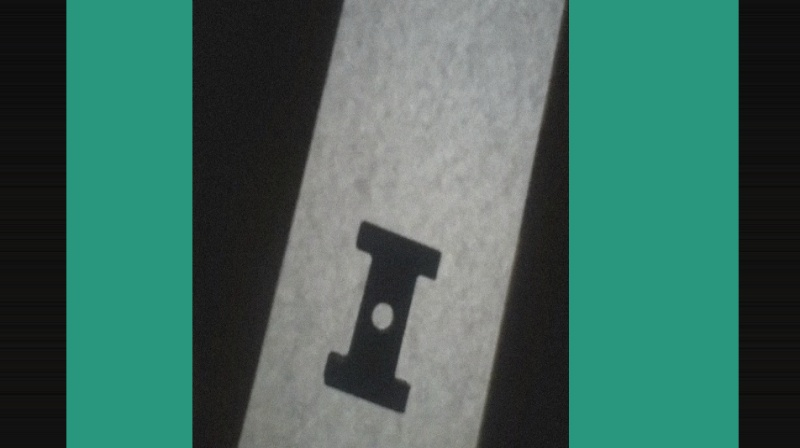O002: (321, 214, 443, 415)
